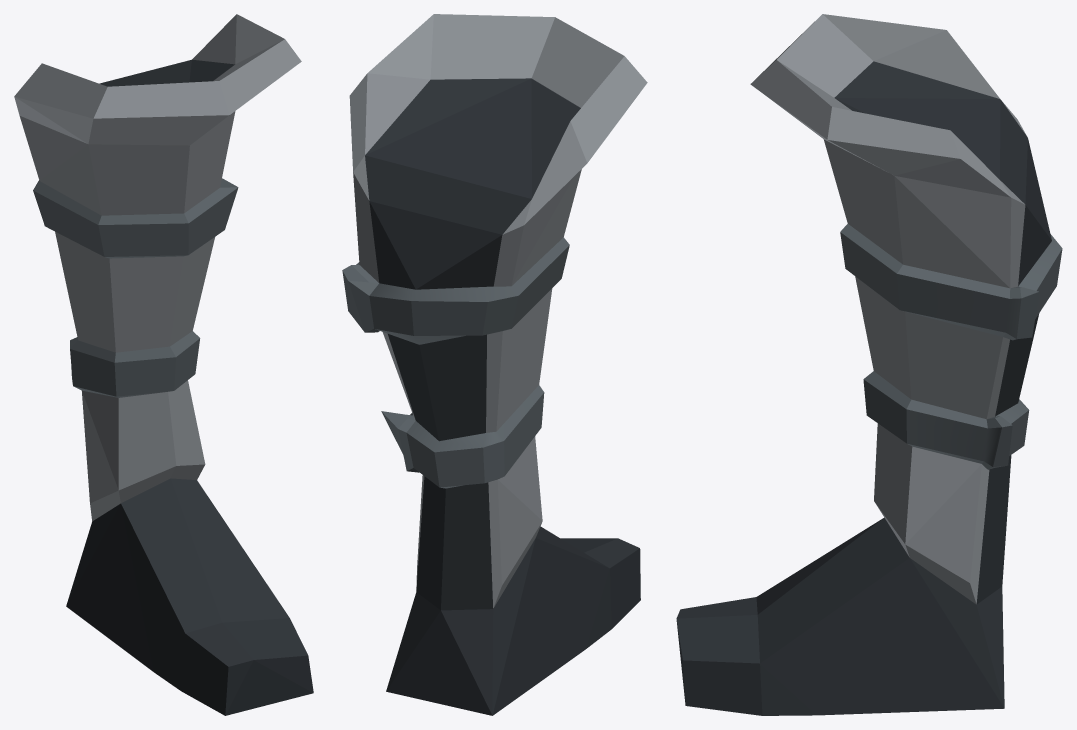
The model's file is Chr_LegLeft_Female_08_Static.fbx.
3 renders of one model, left to right at view 1: azimuth 30°, elevation 25°; view 2: azimuth 150°, elevation 25°; view 3: azimuth 270°, elevation 25°, orthographic. The views are drawn at different scales.
Parts seen in each view (by area): view 1: Chr_LegLeft_Female_08_Static; view 2: Chr_LegLeft_Female_08_Static; view 3: Chr_LegLeft_Female_08_Static.
Boxes of the visible parts, <box> form: Chr_LegLeft_Female_08_Static: <box>14,14,313,715</box>; Chr_LegLeft_Female_08_Static: <box>342,14,647,715</box>; Chr_LegLeft_Female_08_Static: <box>676,14,1062,715</box>.
Bounding box in the file's own units: 0.1764 × 0.4324 × 0.244.
